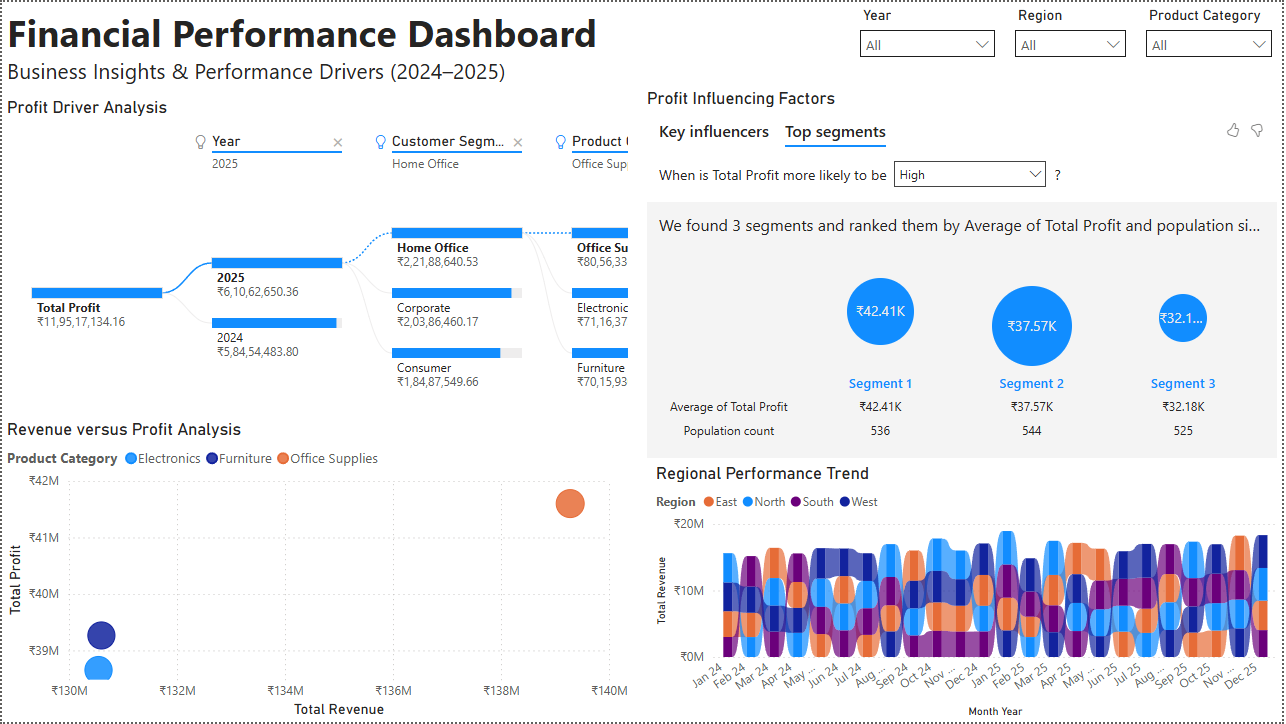

Layout of this report page (visuals, bound fields, positions):
{"tool":"powerbi","page":{"name":"Business Insights","canvas":[1280,720],"ordinal":2},"visuals":[{"type":"textbox","box":[0,0,848,95],"z":0},{"type":"slicer","fields":{"Values":["FactFinancial.Region"]},"box":[1003,0,131,95],"z":1},{"type":"slicer","fields":{"Values":["FactFinancial.Product Category"]},"box":[1134,0,146,95],"z":2},{"type":"slicer","fields":{"Values":["DimDate.Year"]},"box":[848,0,155,95],"z":3},{"type":"decompositionTreeVisual","title":"Profit Driver Analysis","fields":{"Analyze":["Measure Table.Total Profit"],"ExplainBy":["DimDate.Year","FactFinancial.Customer Segment","FactFinancial.Product Category","FactFinancial.Product","FactFinancial.Region"]},"box":[0,95,631,322],"z":4},{"type":"keyDriversVisual","title":"Profit Influencing Factors","fields":{"Target":["Measure Table.Total Profit"],"ExplainBy":["FactFinancial.Region","FactFinancial.Product Category","FactFinancial.Customer Segment","FactFinancial.Discount","FactFinancial.Quantity","DimDate.Year"]},"box":[640,86,640,375],"z":5},{"type":"scatterChart","title":"Revenue versus Profit Analysis","fields":{"X":["Measure Table.Total Revenue"],"Y":["Measure Table.Total Profit"],"Series":["FactFinancial.Product Category"],"Size":["Measure Table.Total Quantity"]},"box":[0,417,631,303],"z":6},{"type":"ribbonChart","title":"Regional Performance Trend","fields":{"Category":["DimDate.Month Year"],"Series":["FactFinancial.Region"],"Y":["Measure Table.Total Revenue"]},"box":[649,461,631,259],"z":7}]}

Visuals, with their boxes in screenshot pixels (x1, y1, x2, y2), scaled from the page's 1280x720 canvas onto the 1286x724 screenshot:
textbox: x1=0, y1=0, x2=852, y2=96
slicer - FactFinancial.Region: x1=1008, y1=0, x2=1139, y2=96
slicer - FactFinancial.Product Category: x1=1139, y1=0, x2=1285, y2=96
slicer - DimDate.Year: x1=852, y1=0, x2=1008, y2=96
"Profit Driver Analysis" decompositionTreeVisual: x1=0, y1=96, x2=634, y2=419
"Profit Influencing Factors" keyDriversVisual: x1=643, y1=86, x2=1285, y2=464
"Revenue versus Profit Analysis" scatterChart: x1=0, y1=419, x2=634, y2=723
"Regional Performance Trend" ribbonChart: x1=652, y1=464, x2=1285, y2=723
